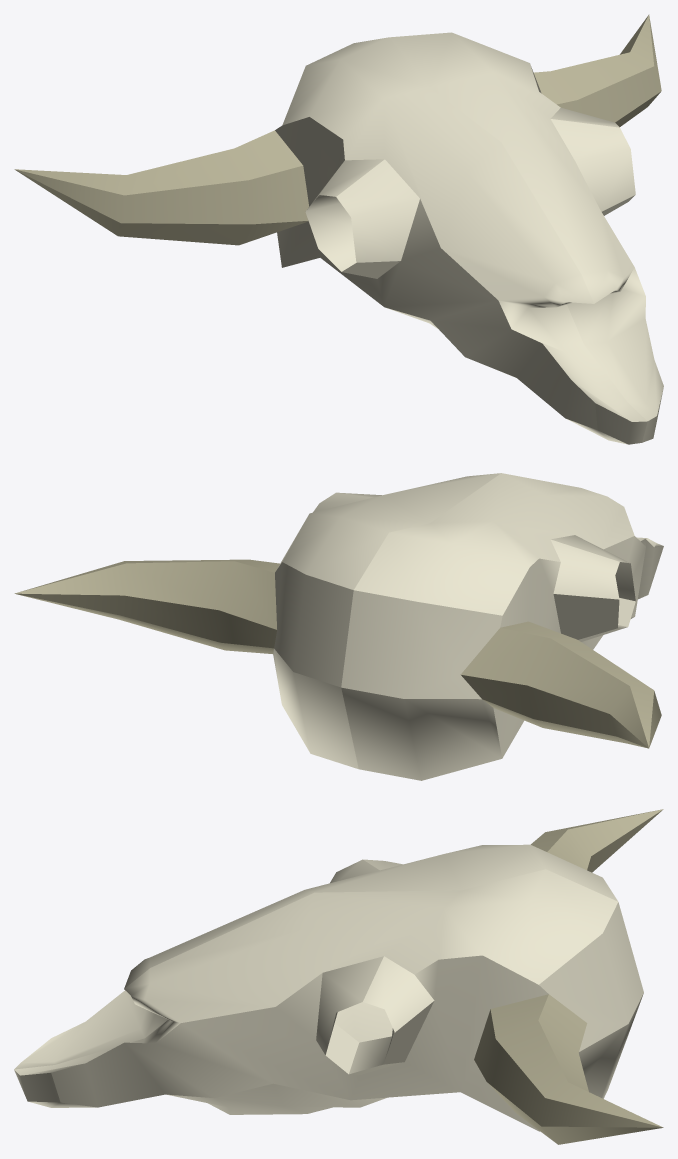
Rendered from bison_skull.fbx.
3 renders of one model, top to bottom at view 1: azimuth 30°, elevation 25°; view 2: azimuth 150°, elevation 25°; view 3: azimuth 270°, elevation 25°, orthographic. The views are drawn at different scales.
Visible parts, largest first — view 1: pCube3; view 2: pCube3; view 3: pCube3.
Part boxes in pixels (left/top/right/bottom): pCube3: left=14, top=14, right=663, bottom=444; pCube3: left=14, top=473, right=663, bottom=780; pCube3: left=14, top=809, right=663, bottom=1144.
Bounding box in the file's own units: 6.49 × 2.33 × 5.59.
